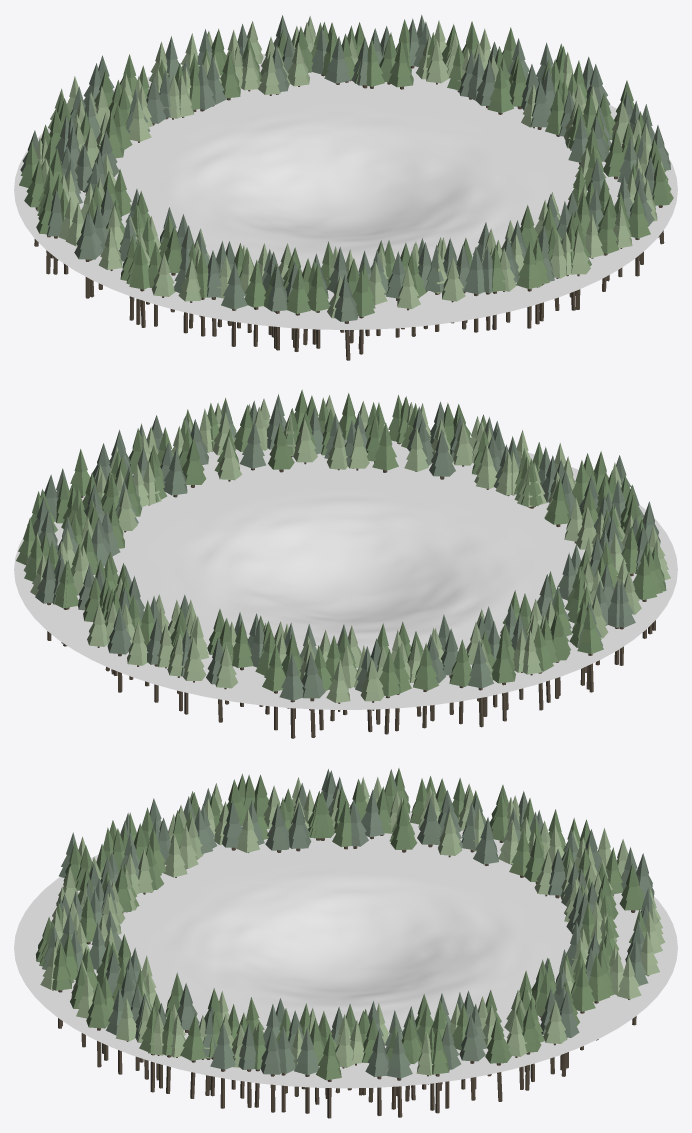
File: lake trees.fbx
3 renders of one model, top to bottom at view 1: azimuth 30°, elevation 25°; view 2: azimuth 150°, elevation 25°; view 3: azimuth 270°, elevation 25°, orthographic.
Visible parts, largest first — view 1: trees, Subdivision_Surface; view 2: trees, Subdivision_Surface; view 3: trees, Subdivision_Surface.
Part boxes in pixels (x1,y1,x2,y2): trees: [19, 14, 673, 360]; Subdivision_Surface: [14, 53, 677, 329]; trees: [16, 389, 670, 738]; Subdivision_Surface: [14, 430, 677, 709]; trees: [35, 768, 665, 1118]; Subdivision_Surface: [14, 810, 677, 1088].
Size of what is drawn, in the model's own units: 8572 by 1220 by 8572.
